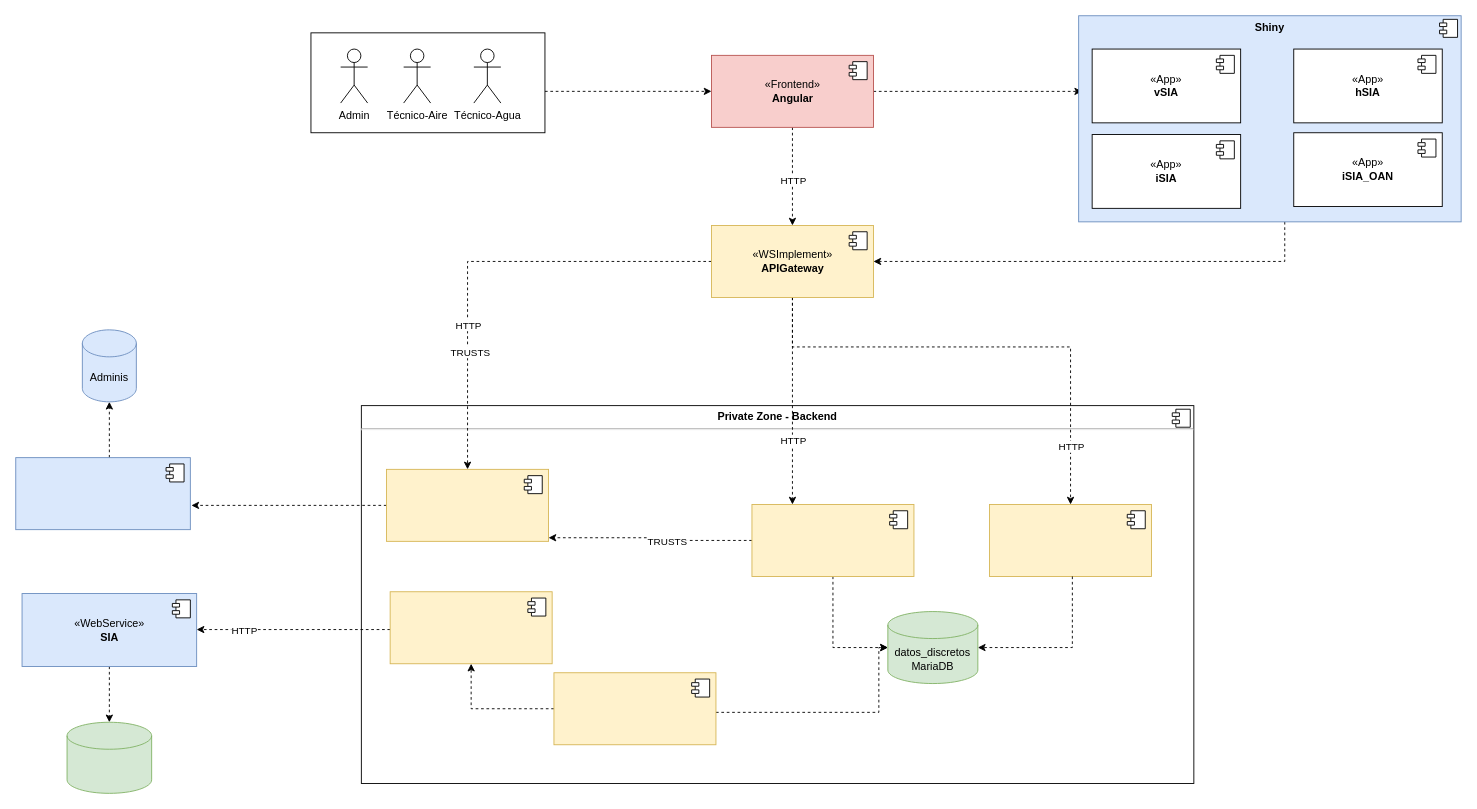
This 1477x809 diagram has some shape labels left out. Here are the shapes that lost their labels. From the top down, the box of each, then its label:
(15, 457, 190, 530): «WSImplement» loginMA
(386, 468, 549, 541): «WSImplement» AuthService
(751, 504, 914, 576): «WSImplement» AireService
(989, 504, 1152, 576): «WSImplement» AguaService
(389, 591, 552, 664): «WSImplement» AdapterService
(553, 672, 716, 745): «Process» CronJobs
(66, 721, 152, 793): INFAMBIENTAL BD PostgreSQL
